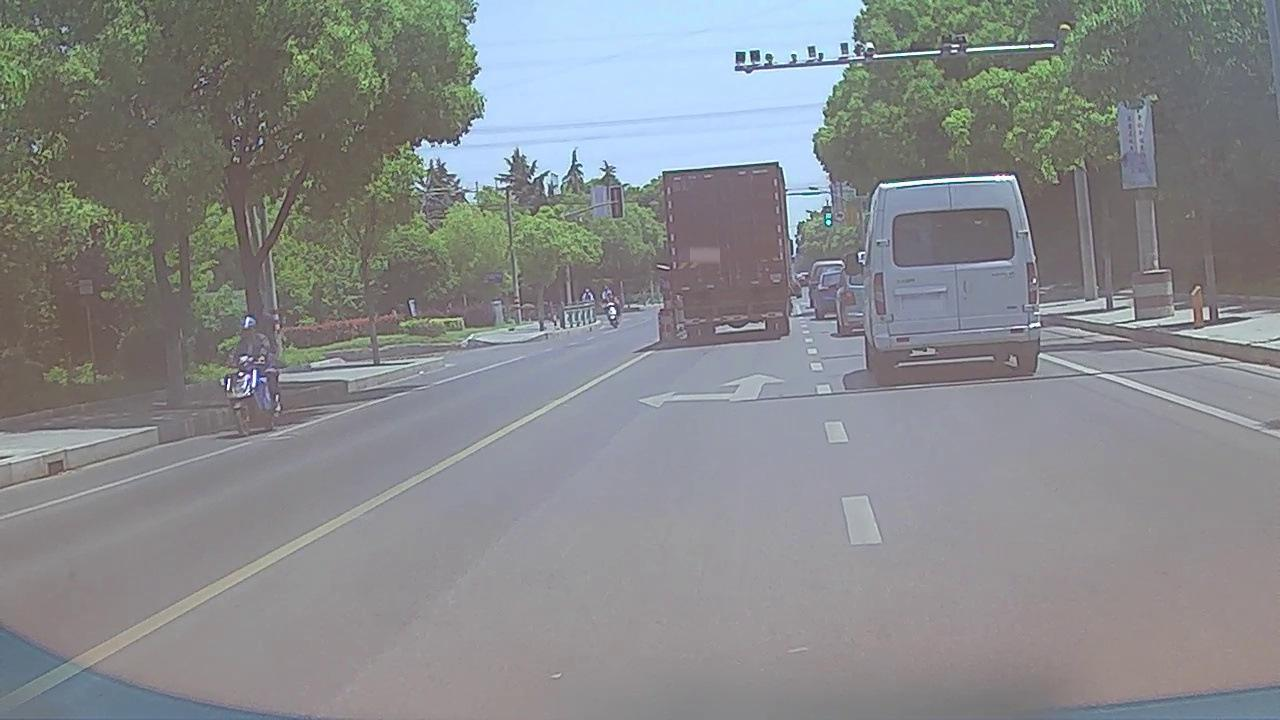traffic_light: (824, 206, 832, 226)
